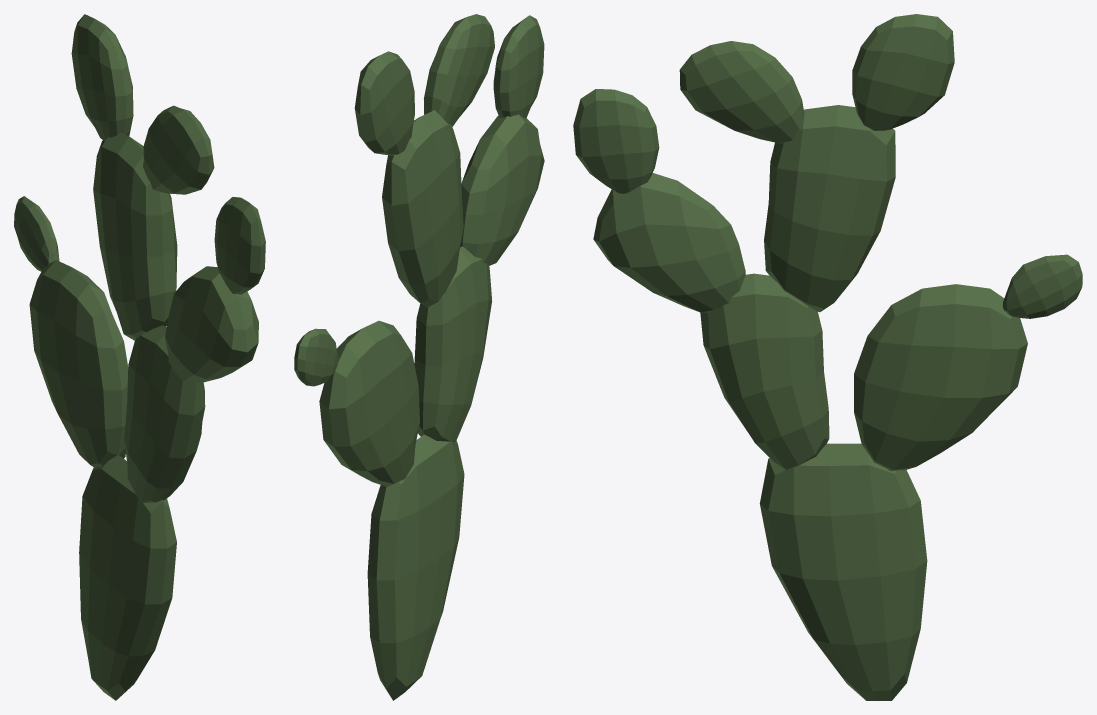
The model's file is cactus_4.glb.
3 views of the same model, side by side, from view 1: azimuth 30°, elevation 25°; view 2: azimuth 150°, elevation 25°; view 3: azimuth 270°, elevation 25° (orthographic). The views are drawn at different scales.
Parts seen in each view (by area): view 1: Cactus_4; view 2: Cactus_4; view 3: Cactus_4.
Part boxes in pixels (x1,y1,x2,y2): Cactus_4: (14,14,265,700); Cactus_4: (294,14,544,700); Cactus_4: (573,14,1082,700).
Bounding box in the file's own units: 0.11 × 1.37 × 0.919.
